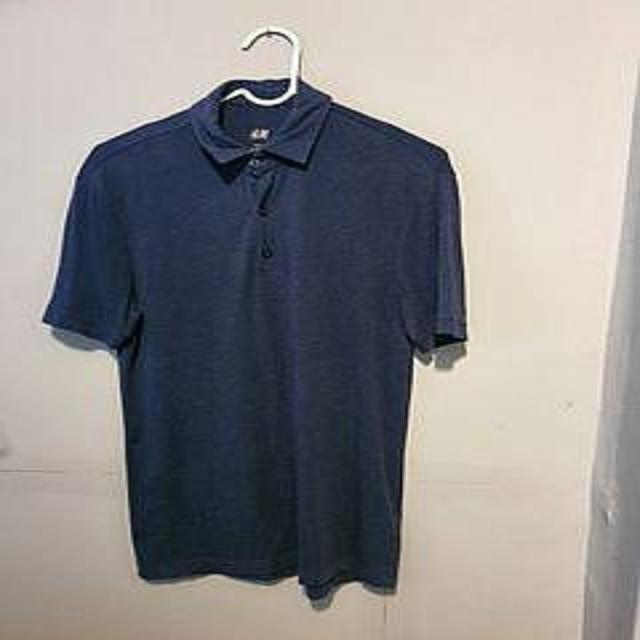T_SHIRT: (34, 70, 482, 615)
